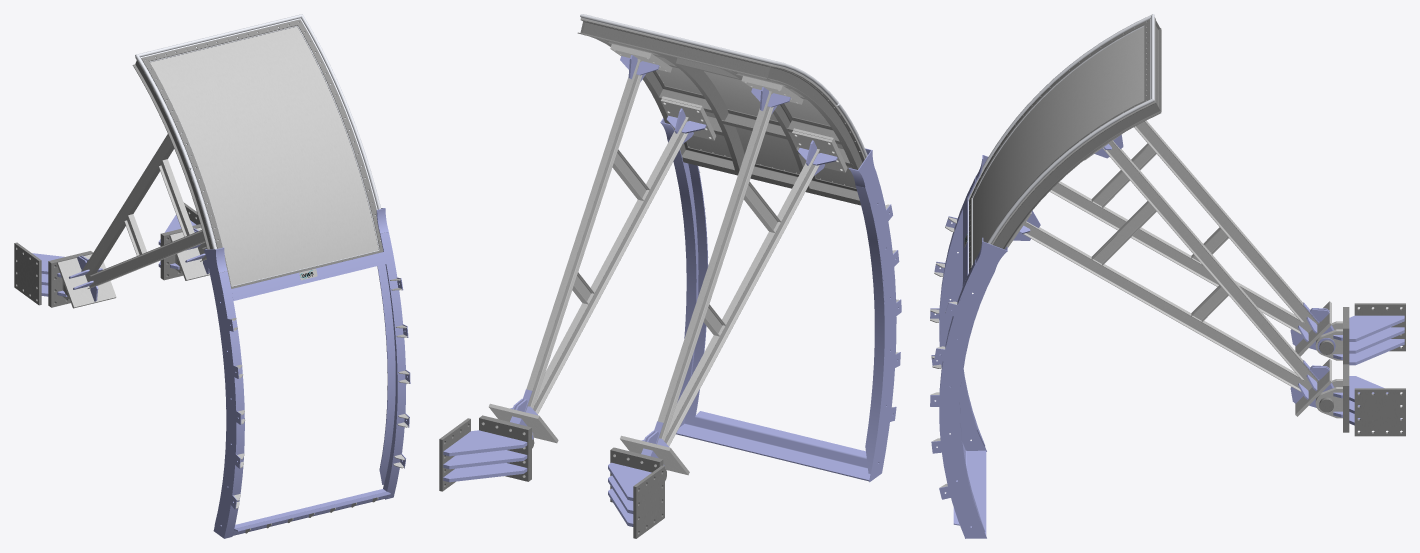
File: 1.4 W-CPR.glb
3 views of the same model, side by side, from view 1: azimuth 30°, elevation 25°; view 2: azimuth 150°, elevation 25°; view 3: azimuth 270°, elevation 25° (orthographic). The views are drawn at different scales.
Parts seen in each view (by area): view 1: Sólido1 (×20), Sólido2; view 2: Sólido1 (×33), Sólido2; view 3: Sólido1 (×21), Sólido2.
Boxes of the visible parts, bbox=[...] form: Sólido1 (×20): bbox=[14, 19, 410, 538]; Sólido2: bbox=[135, 14, 381, 286]; Sólido1 (×33): bbox=[439, 18, 901, 538]; Sólido2: bbox=[580, 14, 867, 158]; Sólido1 (×21): bbox=[930, 17, 1405, 538]; Sólido2: bbox=[968, 14, 1154, 273].
Size of the model in its own units: 1.6 by 3.77 by 3.7.
Materials: 10 (2 with a texture image).
